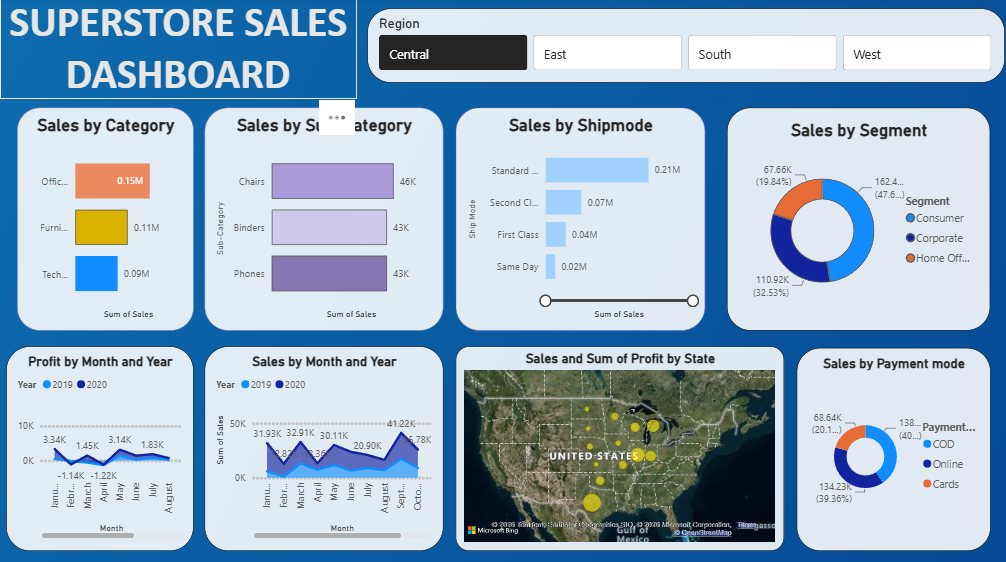

The dashboard page shown, as its layout file describes it:
{"tool":"powerbi","page":{"name":"Executive Summary","canvas":[1280,720],"ordinal":0},"visuals":[{"type":"barChart","title":"Sales by Category ","fields":{"Category":["SuperStore_Sales_Dataset.Category"],"Y":["Sum(SuperStore_Sales_Dataset.Sales)"]},"box":[21.6,141.4,223.9,282.8],"z":0},{"type":"clusteredBarChart","title":"Sales by Sub-Category ","fields":{"Y":["Sum(SuperStore_Sales_Dataset.Sales)"],"Category":["SuperStore_Sales_Dataset.Sub-Category"]},"box":[259.2,141.4,302.4,282.8],"z":1000},{"type":"barChart","title":"Sales by Shipmode ","fields":{"Y":["Sum(SuperStore_Sales_Dataset.Sales)"],"Category":["SuperStore_Sales_Dataset.Ship Mode"]},"box":[577.4,141.4,316.2,282.8],"z":2000},{"type":"stackedAreaChart","title":"Profit by Month and Year ","fields":{"Series":["SuperStore_Sales_Dataset.Order Date.Variation.Date Hierarchy.Year"],"Category":["SuperStore_Sales_Dataset.Order Date.Variation.Date Hierarchy.Month","SuperStore_Sales_Dataset.Order Date.Variation.Date Hierarchy.Day"],"Y":["Sum(SuperStore_Sales_Dataset.Profit)"]},"box":[7.9,443.8,237.6,259.2],"z":3000},{"type":"stackedAreaChart","title":"Sales by Month and Year ","fields":{"Series":["SuperStore_Sales_Dataset.Order Date.Variation.Date Hierarchy.Year"],"Y":["Sum(SuperStore_Sales_Dataset.Sales)"],"Category":["SuperStore_Sales_Dataset.Order Date.Variation.Date Hierarchy.Month"]},"box":[259.2,443.8,302.4,259.2],"z":4000},{"type":"map","title":"Sales and Sum of Profit by State","fields":{"Category":["SuperStore_Sales_Dataset.State"],"Size":["Sum(SuperStore_Sales_Dataset.Sales)"]},"box":[577.4,443.8,416.3,259.2],"z":5000},{"type":"donutChart","title":"Sales by Segment","fields":{"Category":["SuperStore_Sales_Dataset.Segment"],"Y":["Sum(SuperStore_Sales_Dataset.Sales)"]},"box":[921.1,141.4,333.9,282.8],"z":6000},{"type":"donutChart","title":"Sales by Payment mode","fields":{"Y":["Sum(SuperStore_Sales_Dataset.Sales)"],"Category":["SuperStore_Sales_Dataset.Payment Mode"]},"box":[1009.4,445.8,245.5,257.3],"z":7000},{"type":"advancedSlicerVisual","fields":{"Values":["SuperStore_Sales_Dataset.Region"]},"box":[465,15.1,807.5,94],"z":8000},{"type":"textbox","title":"SUPERSTORE SALES DASHBOARD ","box":[0,0,451.6,130],"z":9000}]}

Visuals, with their boxes in screenshot pixels (x1, y1, x2, y2), scaled from the page's 1280x720 canvas onto the 1006x562 screenshot:
"Sales by Category " barChart: 17, 110, 193, 331
"Sales by Sub-Category " clusteredBarChart: 204, 110, 441, 331
"Sales by Shipmode " barChart: 454, 110, 702, 331
"Profit by Month and Year " stackedAreaChart: 6, 346, 193, 549
"Sales by Month and Year " stackedAreaChart: 204, 346, 441, 549
"Sales and Sum of Profit by State" map: 454, 346, 781, 549
"Sales by Segment" donutChart: 724, 110, 986, 331
"Sales by Payment mode" donutChart: 793, 348, 986, 549
advancedSlicerVisual - SuperStore_Sales_Dataset.Region: 365, 12, 1000, 85
"SUPERSTORE SALES DASHBOARD " textbox: 0, 0, 355, 101
